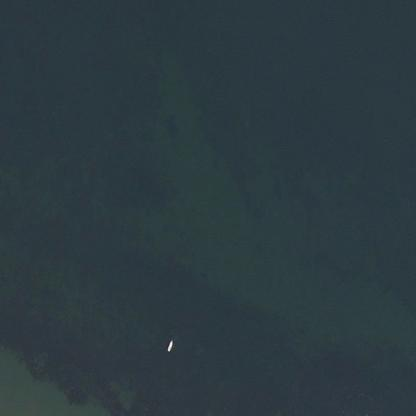ship: (158, 333, 180, 358)
